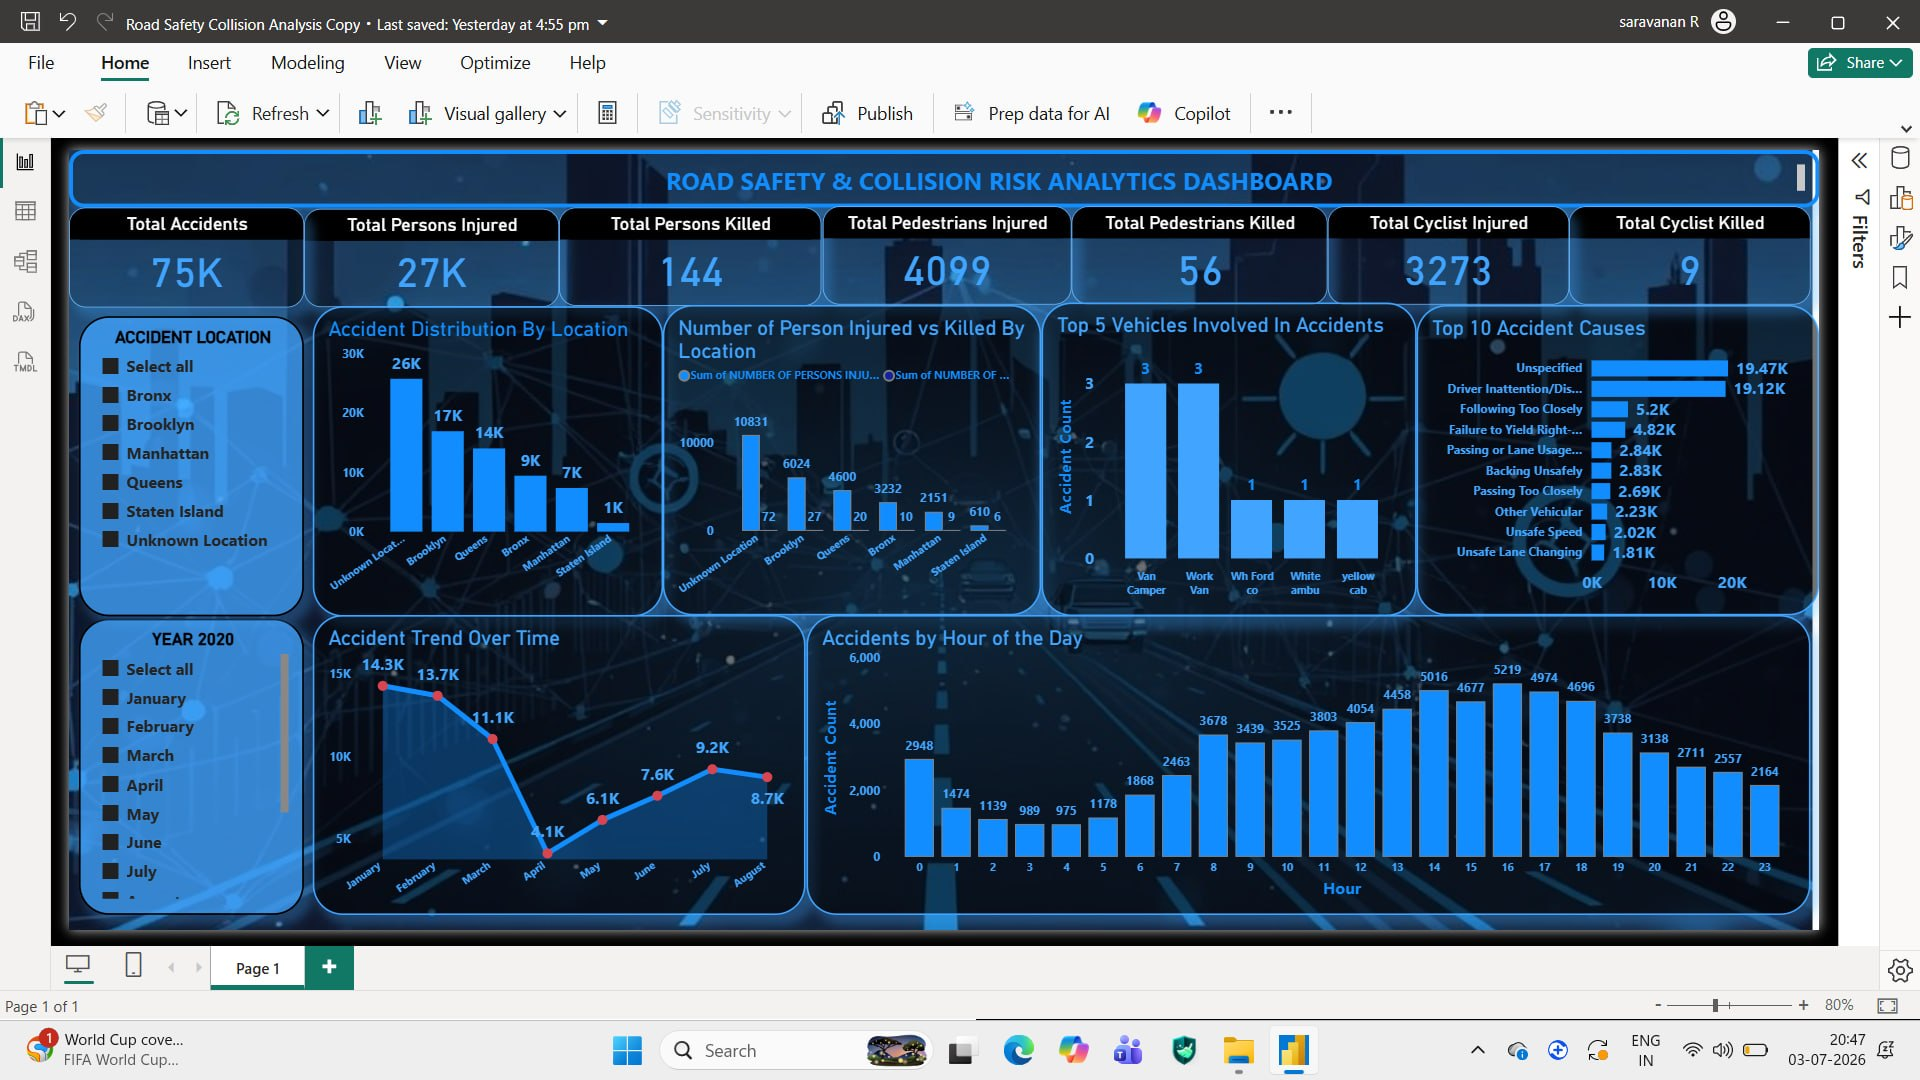

This screenshot's page, from the dashboard's own definition file:
{"tool":"powerbi","page":{"name":"Page 1","canvas":[1280,720],"ordinal":0},"visuals":[{"type":"textbox","box":[0,0,1175.9,57.7],"z":0},{"type":"card","title":"Total Persons Injured","fields":{"Values":["NYC Accidents 2020.Total Persons Injured"]},"box":[235.2,57.7,235.2,99.6],"z":1000},{"type":"card","title":"Total Accidents","fields":{"Values":["NYC Accidents 2020.Total Accidents"]},"box":[0,59.2,235.2,99.6],"z":2000},{"type":"card","title":"Total Persons Killed","fields":{"Values":["NYC Accidents 2020.Total Persons Killed"]},"box":[470.3,57.7,235.2,99.6],"z":3000},{"type":"card","title":"Total Pedestrians Injured","fields":{"Values":["NYC Accidents 2020.Pedestrians Injured"]},"box":[705.5,57.7,235.2,99.6],"z":4000},{"type":"card","title":"Total Cyclist Injured","fields":{"Values":["NYC Accidents 2020.Cyclists Injured"]},"box":[940.1,59.7,234.7,99.6],"z":5000},{"type":"slicer","title":"YEAR 2020","fields":{"Values":["NYC Accidents 2020.CRASH DATE.Variation.Date Hierarchy.Month"]},"box":[0,308.8,235.2,411.2],"z":6000},{"type":"slicer","title":"ACCIDENT LOCATION","fields":{"Values":["NYC Accidents 2020.BOROUGH"]},"box":[0,158.7,235.2,150],"z":7000},{"type":"clusteredColumnChart","title":"Accident Distribution By Location","fields":{"Category":["NYC Accidents 2020.BOROUGH"],"Y":["CountNonNull(NYC Accidents 2020.COLLISION_ID)"]},"box":[235.3,159.3,470.5,277.5],"z":8000},{"type":"clusteredBarChart","title":"Top 10 Accident Causes","fields":{"Category":["NYC Accidents 2020.CONTRIBUTING FACTOR VEHICLE 1"],"Y":["CountNonNull(NYC Accidents 2020.COLLISION_ID)"]},"box":[705.8,160.5,469.3,276.3],"z":9000},{"type":"lineChart","title":"Accident Trend Over Time","fields":{"Category":["NYC Accidents 2020.CRASH DATE.Variation.Date Hierarchy.Month"],"Y":["CountNonNull(NYC Accidents 2020.COLLISION_ID)"]},"box":[235.3,445.2,470.5,265.4],"z":10000},{"type":"clusteredBarChart","title":"Top 5 Vehicles Involved In Accidents","fields":{"Category":["NYC Accidents 2020.VEHICLE TYPE CODE 1"],"Y":["CountNonNull(NYC Accidents 2020.COLLISION_ID)"]},"box":[706,445,469,265],"z":11000}]}

Visuals, with their boxes on the page's 1280x720 design canvas (x1, y1, x2, y2). These are canvas units, not pixel positions in the 1920x1080 screenshot, which may show the page scaled, cropped or inside an application window:
textbox: l=0, t=0, r=1176, b=58
"Total Persons Injured" card: l=235, t=58, r=470, b=157
"Total Accidents" card: l=0, t=59, r=235, b=159
"Total Persons Killed" card: l=470, t=58, r=706, b=157
"Total Pedestrians Injured" card: l=706, t=58, r=941, b=157
"Total Cyclist Injured" card: l=940, t=60, r=1175, b=159
"YEAR 2020" slicer: l=0, t=309, r=235, b=720
"ACCIDENT LOCATION" slicer: l=0, t=159, r=235, b=309
"Accident Distribution By Location" clusteredColumnChart: l=235, t=159, r=706, b=437
"Top 10 Accident Causes" clusteredBarChart: l=706, t=160, r=1175, b=437
"Accident Trend Over Time" lineChart: l=235, t=445, r=706, b=711
"Top 5 Vehicles Involved In Accidents" clusteredBarChart: l=706, t=445, r=1175, b=710
